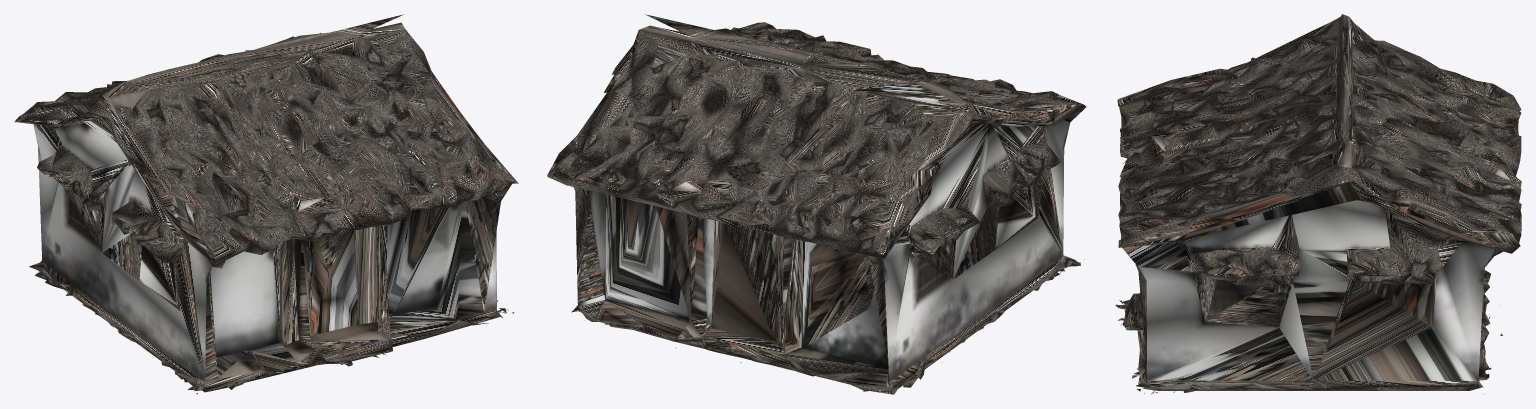
The model's file is bq_house_tiled.far.glb.
3 views of the same model, side by side, from view 1: azimuth 30°, elevation 25°; view 2: azimuth 150°, elevation 25°; view 3: azimuth 270°, elevation 25° (orthographic). The views are drawn at different scales.
Size of the model in its own units: 1.96 by 1.29 by 1.99.
1 material, 1 textured.
